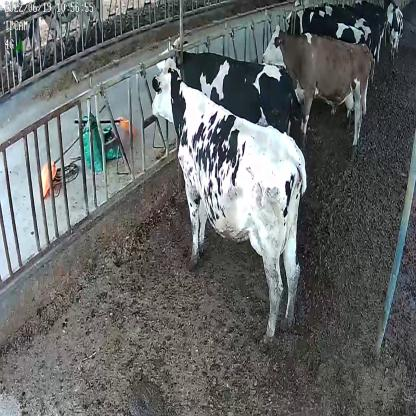cow: (151, 56, 307, 345), (159, 32, 307, 148), (264, 22, 376, 147), (386, 1, 404, 62)
